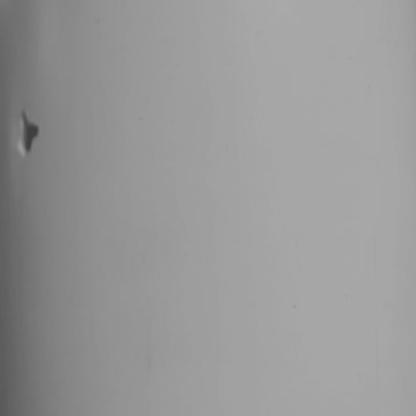kongdong: (4, 109, 44, 154)
